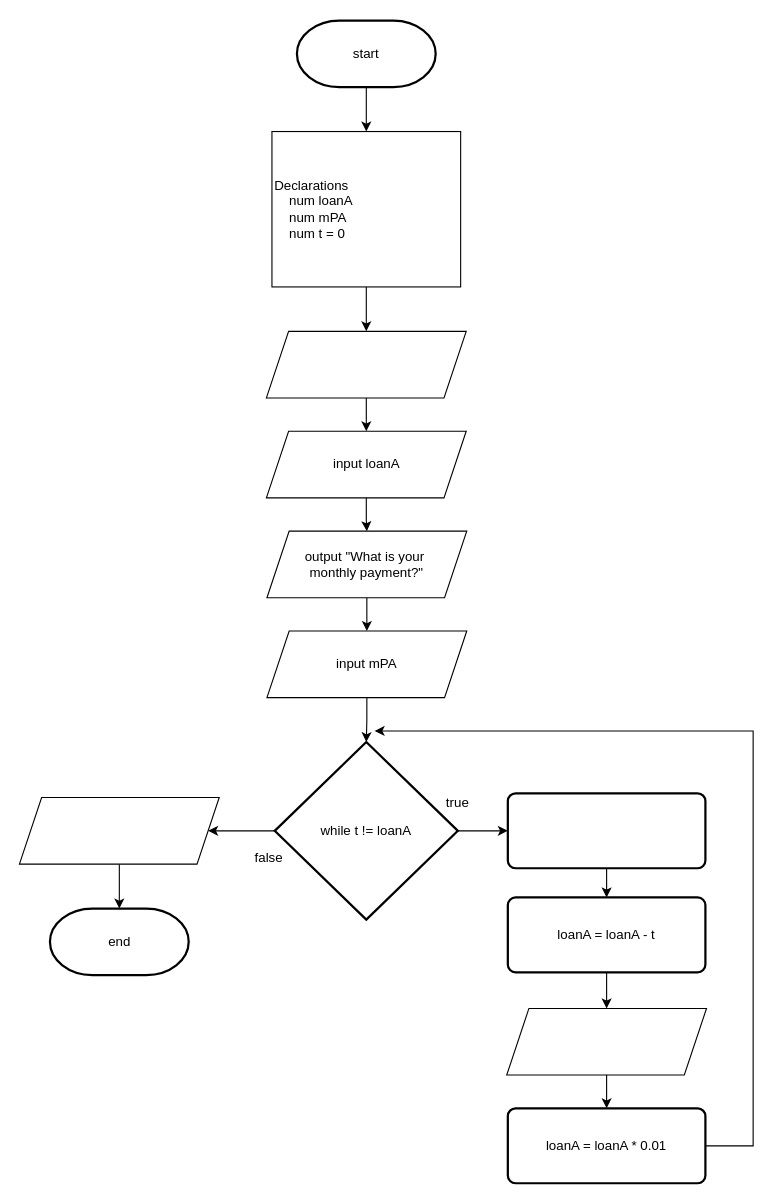
The diagram is 781 pixels wide and 1203 high, and some of its shapes have lost their labels. The shapes that lost their labels are listed below. From the top down, each one's box as (x1, y1, x2, y2) in pixels, then its label:
(265, 330, 466, 398): output "What is your loan amount?"
(18, 796, 219, 864): output "Congrats you are det free!!!"
(506, 792, 706, 869): t = t + mPA
(506, 1007, 707, 1075): output "Current Loan Balance: " loanA
